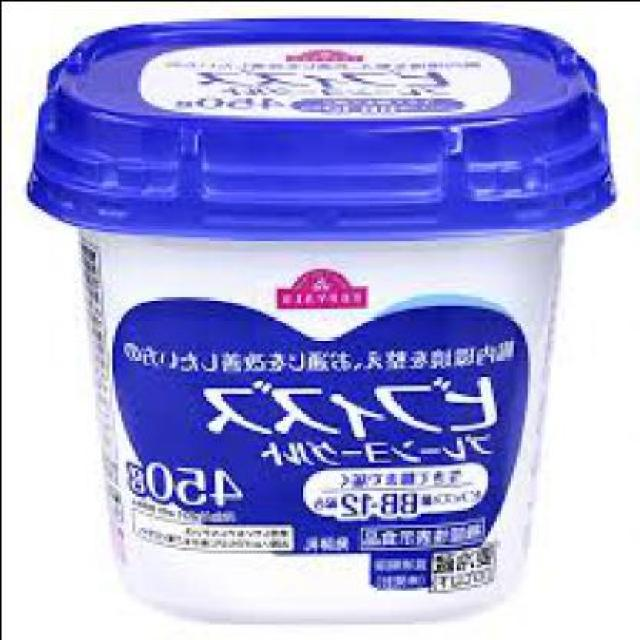PLASTIC: (29, 17, 617, 623), (28, 15, 622, 236)
